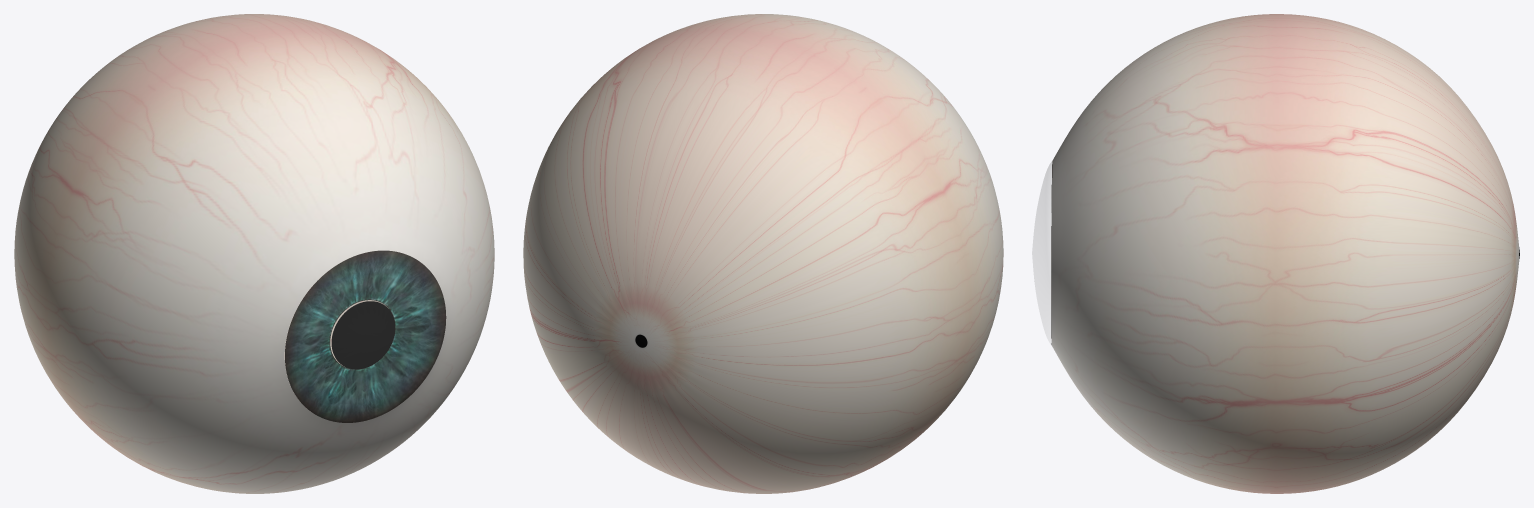
File: ojo.glb
3 views of the same model, side by side, from view 1: azimuth 30°, elevation 25°; view 2: azimuth 150°, elevation 25°; view 3: azimuth 270°, elevation 25° (orthographic).
Parts seen in each view (by area): view 1: ojo, cornea, iris, pupila; view 2: ojo; view 3: ojo, cornea.
Part boxes in pixels (x1,y1,x2,y2): ojo: [14, 14, 494, 493]; cornea: [285, 251, 445, 422]; iris: [285, 250, 446, 422]; pupila: [331, 301, 395, 369]; ojo: [523, 14, 1003, 493]; ojo: [1051, 14, 1519, 493]; cornea: [1032, 162, 1051, 344].
Bounding box in the file's own units: 3.25 × 3.25 × 3.3.
4 materials, 4 textured.
